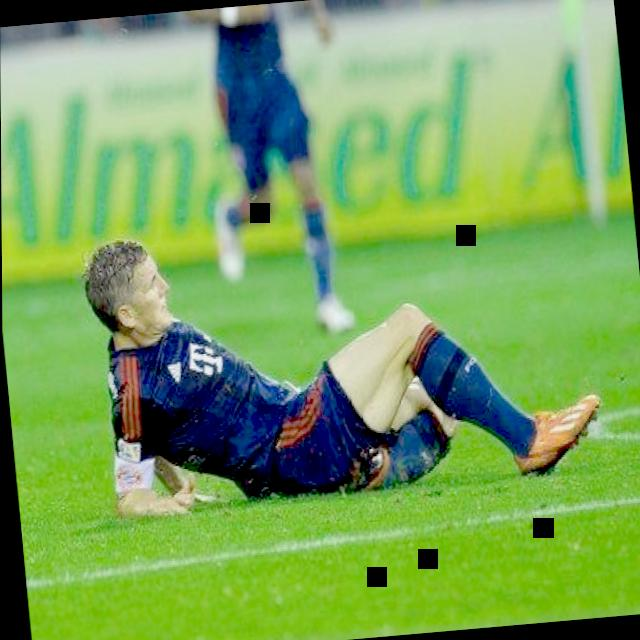Fall-Detected: (76, 175, 621, 520)
